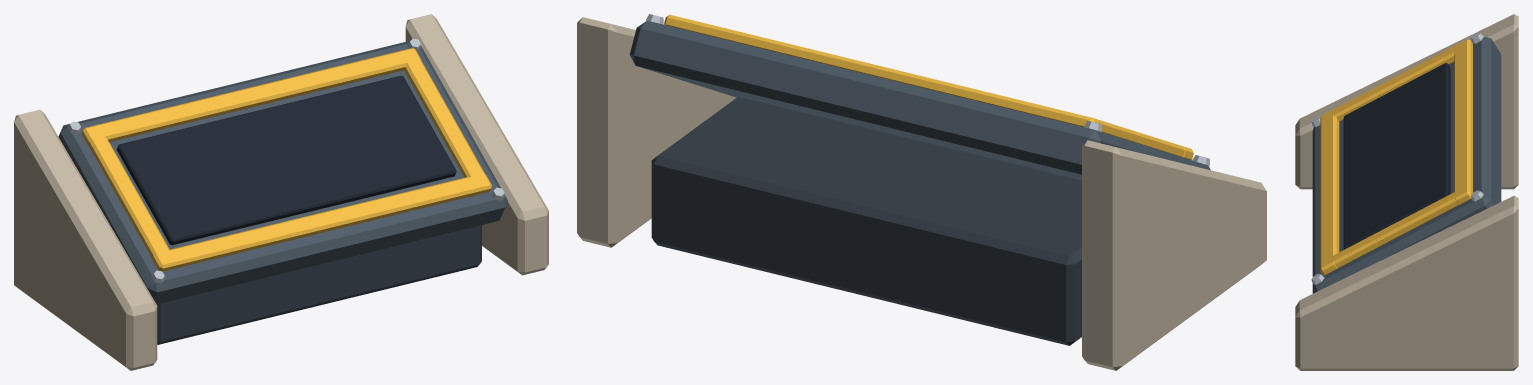
Rendered from Terminal_ScreenHousing.fbx.
The picture shows the model from 3 angles, left to right: view 1: azimuth 30°, elevation 25°; view 2: azimuth 150°, elevation 25°; view 3: azimuth 270°, elevation 25°; orthographic projection. The views are drawn at different scales.
Parts seen in each view (by area): view 1: Screen, Concrete, Frame, Accent_Metal, FrameDark, SteelLight; view 2: FrameDark, Concrete, Frame, Accent_Metal; view 3: Concrete, Screen, Frame, Accent_Metal, SteelLight.
Boxes of the visible parts, x1=… form: Screen: x1=116, y1=75, x2=456, y2=245; Concrete: x1=14, y1=14, x2=548, y2=370; Frame: x1=58, y1=40, x2=507, y2=304; Accent_Metal: x1=81, y1=48, x2=491, y2=271; FrameDark: x1=156, y1=225, x2=481, y2=344; SteelLight: x1=67, y1=38, x2=504, y2=283; FrameDark: x1=651, y1=97, x2=1081, y2=345; Concrete: x1=577, y1=17, x2=1266, y2=370; Frame: x1=629, y1=20, x2=1210, y2=180; Accent_Metal: x1=664, y1=14, x2=1193, y2=159; Concrete: x1=1295, y1=14, x2=1518, y2=370; Screen: x1=1343, y1=63, x2=1450, y2=249; Frame: x1=1312, y1=36, x2=1501, y2=293; Accent_Metal: x1=1320, y1=39, x2=1472, y2=275; SteelLight: x1=1311, y1=32, x2=1483, y2=284.
Bounding box in the file's own units: 5.4 × 2.12 × 2.6.
